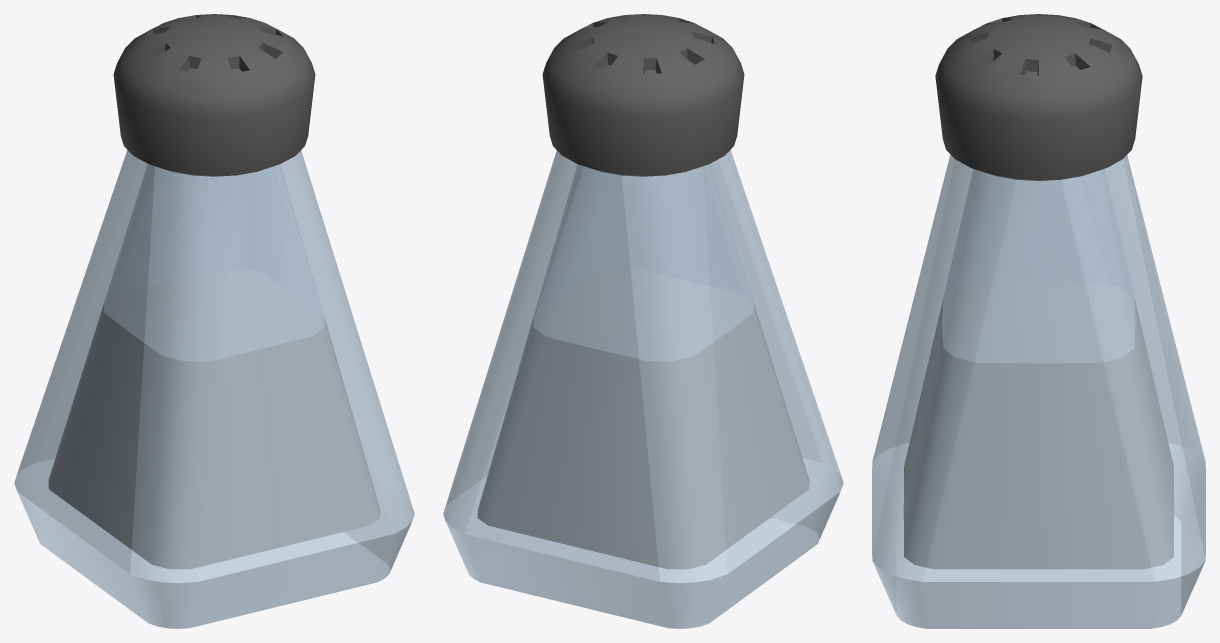
File: SaltBottle.FBX
The picture shows the model from 3 angles, left to right: view 1: azimuth 30°, elevation 25°; view 2: azimuth 150°, elevation 25°; view 3: azimuth 270°, elevation 25°; orthographic projection. The views are drawn at different scales.
Parts seen in each view (by area): view 1: SaltBottle; view 2: SaltBottle; view 3: SaltBottle.
Boxes of the visible parts, x1,y1,x2,y2 form: SaltBottle: [14, 14, 414, 628]; SaltBottle: [443, 14, 843, 628]; SaltBottle: [872, 14, 1205, 628].
Size of the model in its own units: 16.71 by 29.66 by 16.71.
